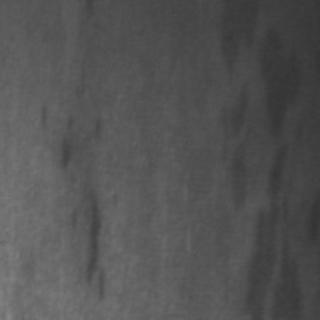inclusion: (250, 107, 314, 313), (53, 102, 115, 314), (208, 17, 254, 210)
